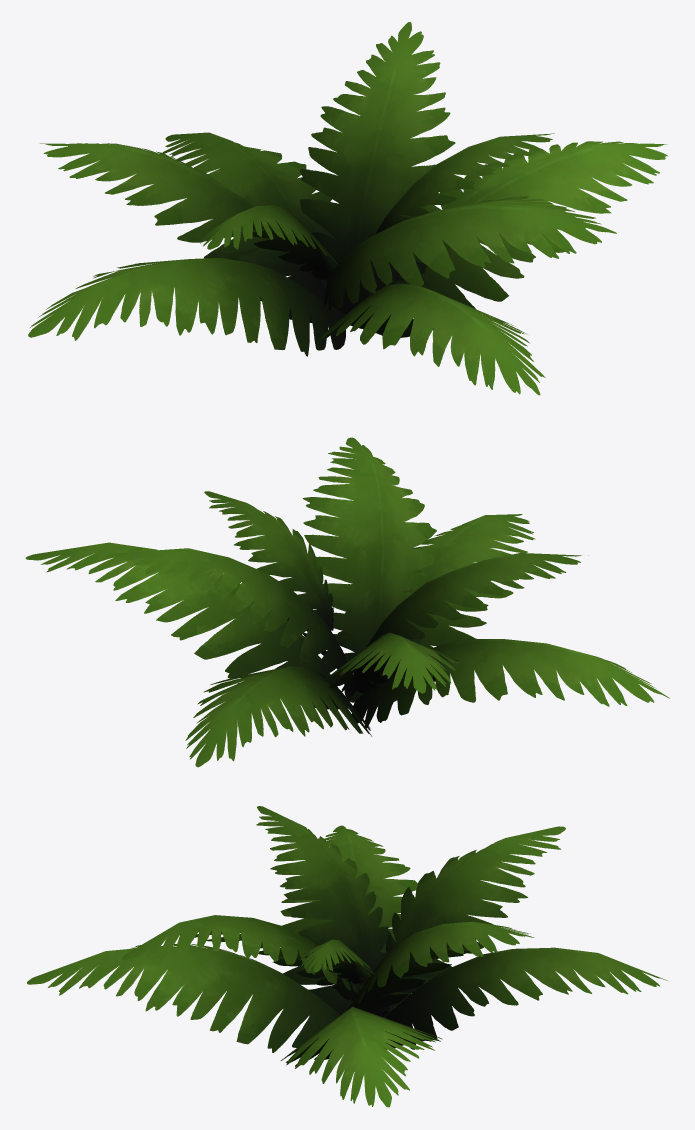
The model's file is fern.glb.
3 views of the same model, one above another, from view 1: azimuth 30°, elevation 25°; view 2: azimuth 150°, elevation 25°; view 3: azimuth 270°, elevation 25° (orthographic). The views are drawn at different scales.
Visible parts, largest first — view 1: Fern_1; view 2: Fern_1; view 3: Fern_1.
Boxes of the visible parts, left/top/right/bottom form: Fern_1: left=28, top=22, right=667, bottom=395; Fern_1: left=25, top=437, right=669, bottom=767; Fern_1: left=27, top=806, right=667, bottom=1107.
Bounding box in the file's own units: 2.83 × 0.8402 × 2.65.
Materials: 1 (1 with a texture image).
